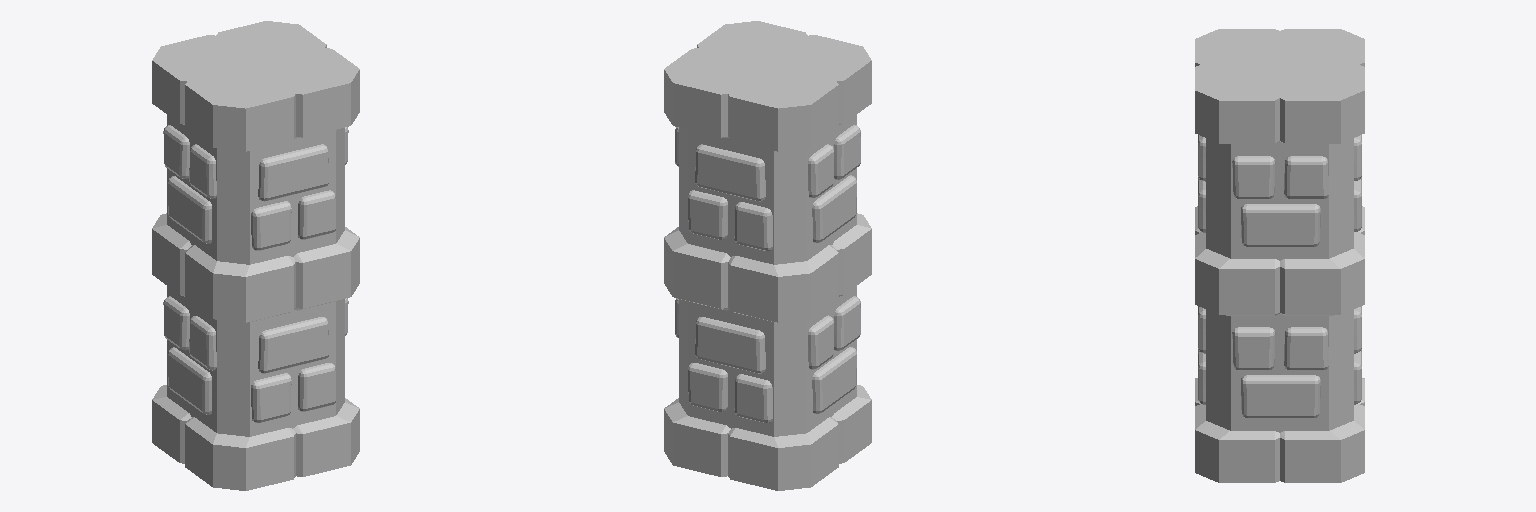
File: pillar.obj
3 views of the same model, side by side, from view 1: azimuth 30°, elevation 25°; view 2: azimuth 150°, elevation 25°; view 3: azimuth 270°, elevation 25° (orthographic).
Visible parts, largest first — view 1: pillar_Cube.2816; view 2: pillar_Cube.2816; view 3: pillar_Cube.2816.
Part boxes in pixels (left/top/right/bottom): pillar_Cube.2816: left=152, top=21, right=359, bottom=490; pillar_Cube.2816: left=664, top=21, right=871, bottom=490; pillar_Cube.2816: left=1195, top=29, right=1364, bottom=482.
Size of the model in its own units: 1.61 by 4 by 1.61.